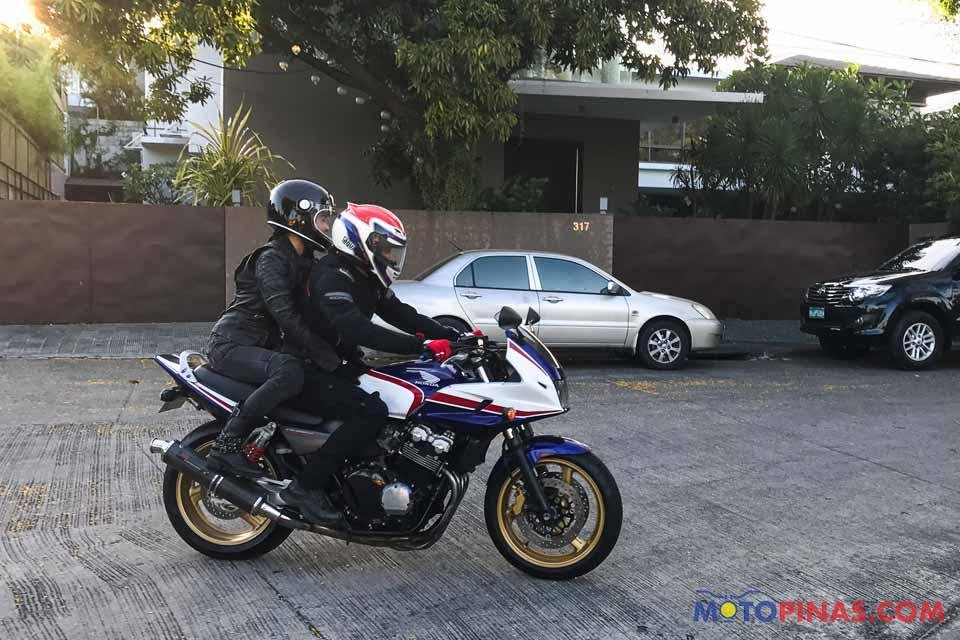helmet: (341, 198, 411, 281), (260, 174, 334, 249)
